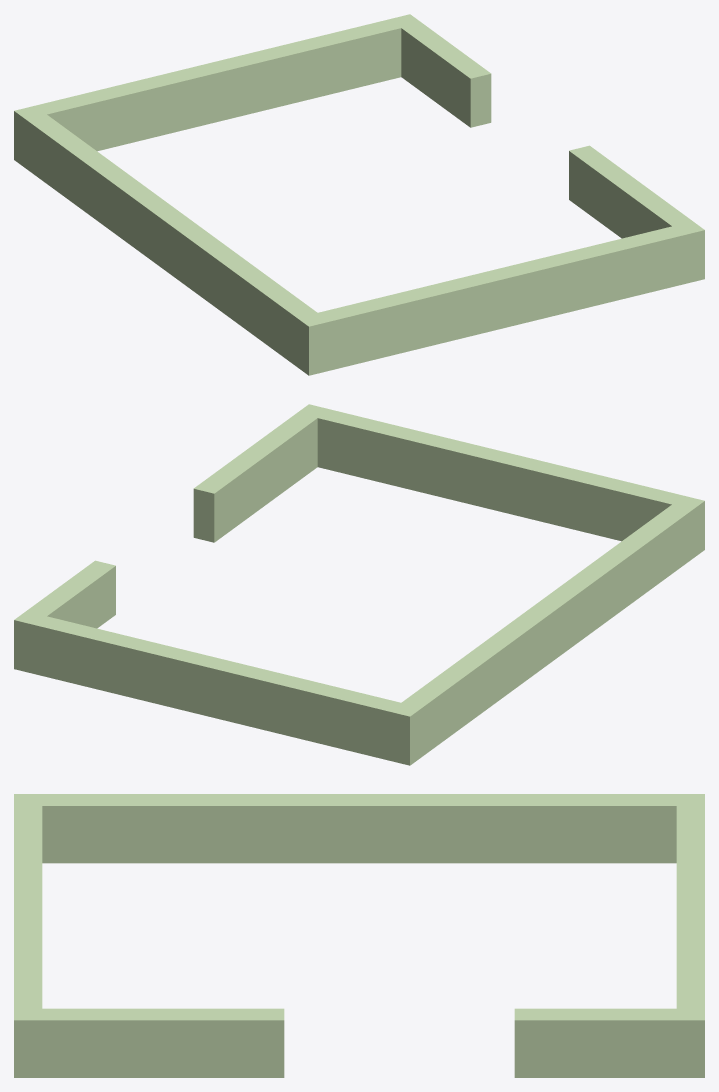
The model's file is Factory fance.fbx.
3 views of the same model, one above another, from view 1: azimuth 30°, elevation 25°; view 2: azimuth 150°, elevation 25°; view 3: azimuth 270°, elevation 25° (orthographic). The views are drawn at different scales.
Visible parts, largest first — view 1: fence01; view 2: fence01; view 3: fence01.
Part boxes in pixels (x1,y1,x2,y2): fence01: (14,14,704,375); fence01: (14,404,704,765); fence01: (14,794,704,1077).
Bounding box in the file's own units: 1689 × 200 × 2178.
